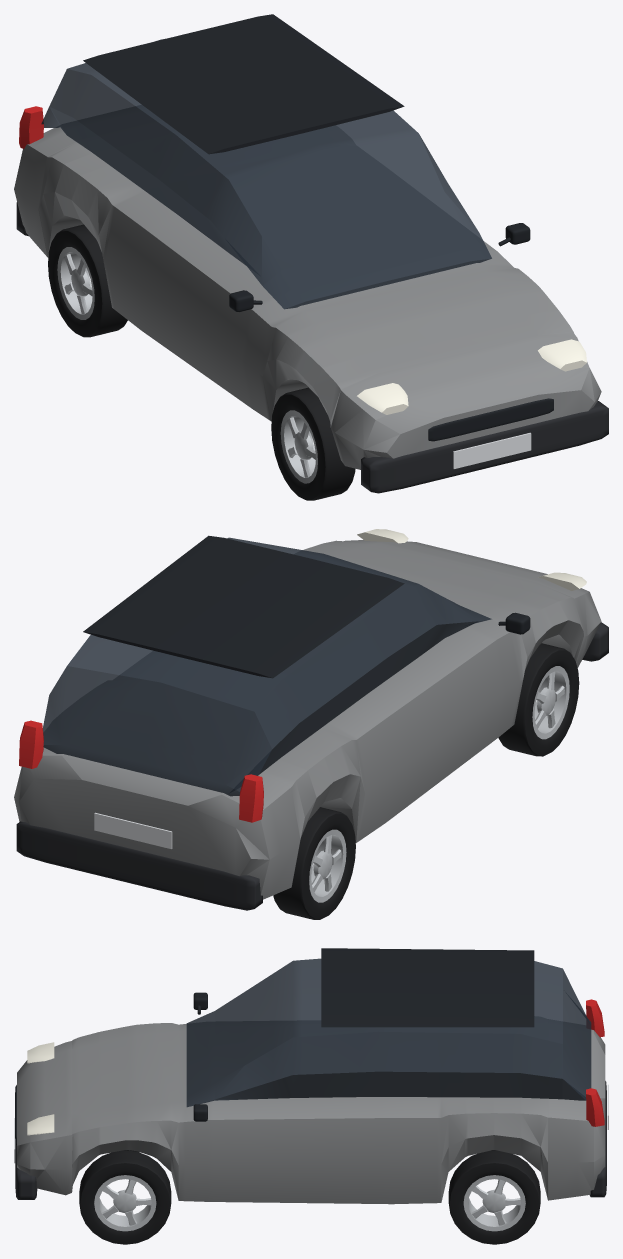
The model's file is chevy_bolt_ev.mid.glb.
3 renders of one model, top to bottom at view 1: azimuth 30°, elevation 25°; view 2: azimuth 150°, elevation 25°; view 3: azimuth 270°, elevation 25°, orthographic. The views are drawn at different scales.
Visible parts, largest first — view 1: chevy_bolt_ev, front_right_wheel/tire, rear_right_wheel/tire, rear_right_wheel/rim, front_right_wheel/rim, front_right_wheel, rear_right_wheel; view 2: chevy_bolt_ev, rear_right_wheel/tire, front_right_wheel/tire, front_right_wheel/rim, rear_right_wheel/rim, front_right_wheel, rear_right_wheel; view 3: chevy_bolt_ev, front_left_wheel/tire, rear_left_wheel/tire, front_left_wheel/rim, rear_left_wheel/rim, front_left_wheel, rear_left_wheel.
Part boxes in pixels (x1=…): chevy_bolt_ev: x1=14, y1=14, x2=608, y2=493; front_right_wheel/tire: x1=271, y1=387, x2=355, y2=500; rear_right_wheel/tire: x1=48, y1=224, x2=127, y2=337; rear_right_wheel/rim: x1=57, y1=247, x2=94, y2=319; front_right_wheel/rim: x1=280, y1=410, x2=317, y2=483; front_right_wheel: x1=287, y1=417, x2=315, y2=477; rear_right_wheel: x1=64, y1=254, x2=92, y2=313; chevy_bolt_ev: x1=14, y1=529, x2=608, y2=910; rear_right_wheel/tire: x1=273, y1=807, x2=355, y2=919; front_right_wheel/tire: x1=498, y1=643, x2=579, y2=756; front_right_wheel/rim: x1=532, y1=666, x2=569, y2=739; rear_right_wheel/rim: x1=309, y1=829, x2=346, y2=902; front_right_wheel: x1=535, y1=671, x2=564, y2=728; rear_right_wheel: x1=311, y1=835, x2=341, y2=891; chevy_bolt_ev: x1=14, y1=948, x2=608, y2=1204; front_left_wheel/tire: x1=79, y1=1150, x2=171, y2=1244; rear_left_wheel/tire: x1=448, y1=1150, x2=540, y2=1244; front_left_wheel/rim: x1=94, y1=1175, x2=156, y2=1231; rear_left_wheel/rim: x1=463, y1=1175, x2=525, y2=1231; front_left_wheel: x1=102, y1=1179, x2=151, y2=1225; rear_left_wheel: x1=471, y1=1179, x2=520, y2=1225.
Bounding box in the file's own units: 1.98 × 1.62 × 4.19.
